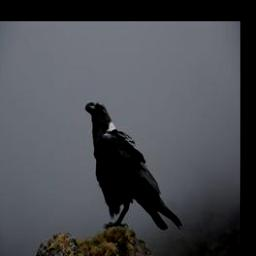Crow: (84, 95, 184, 236)
